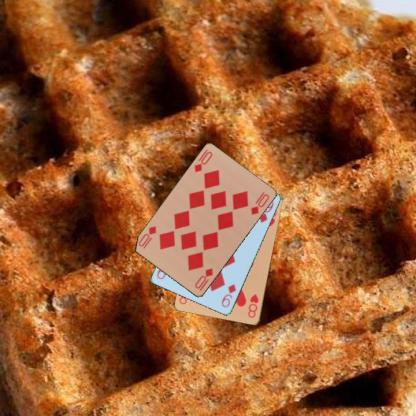10d: (192, 266, 214, 292), (192, 149, 214, 174)
8h: (246, 292, 260, 319)
9d: (219, 281, 237, 309)
